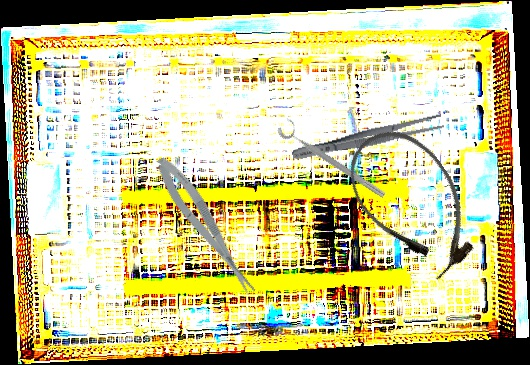Cannula: (331, 112, 495, 292)
Dressing Forceps: (290, 111, 445, 165)
Fixation Ring: (275, 115, 392, 202)
Micro Scissor: (149, 151, 261, 302)
